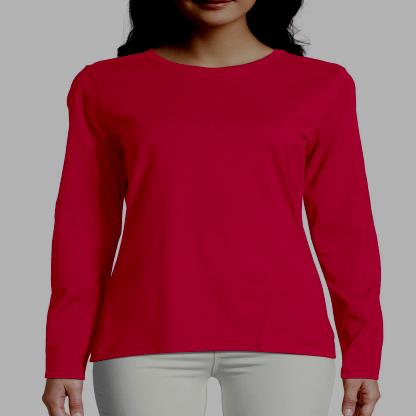dress: (30, 34, 394, 391)
